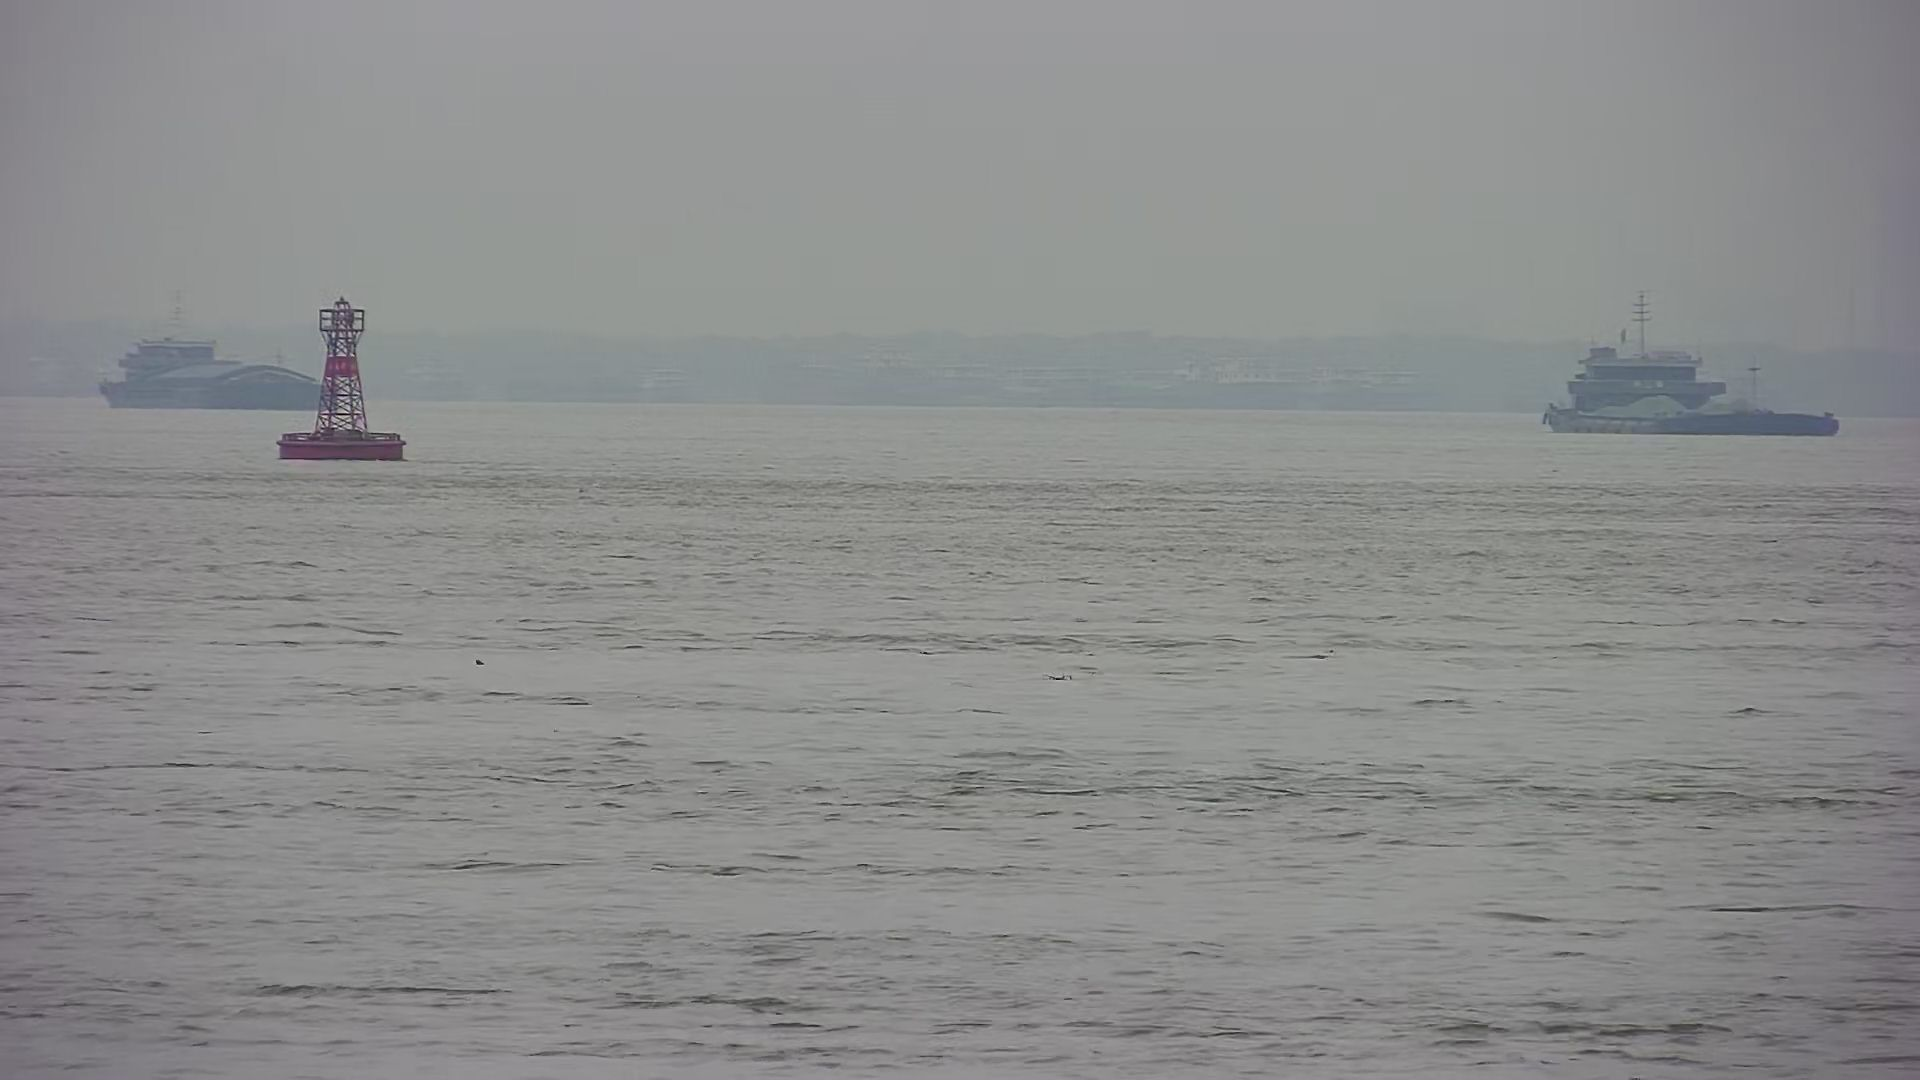buoy: (272, 295, 418, 473)
ship: (1528, 285, 1855, 442), (80, 277, 353, 417)
